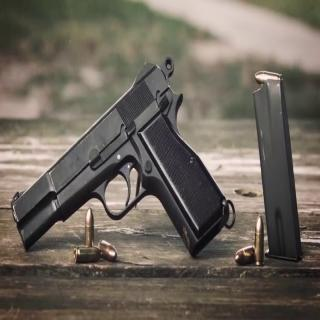gun: (6, 50, 238, 273)
